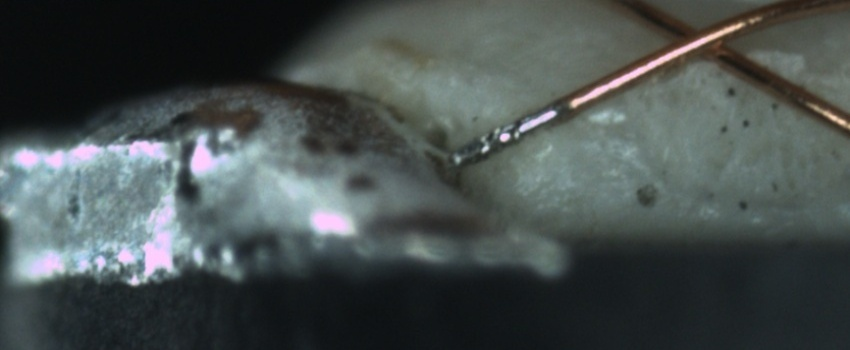CL: (645, 6, 755, 71)
TS: (440, 103, 561, 168)
